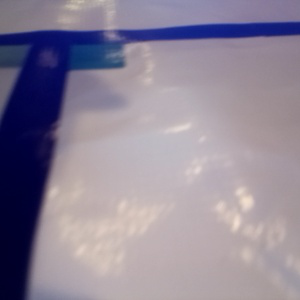bottom_left: (1, 30, 71, 86)
bottom_right: (30, 31, 155, 86)
